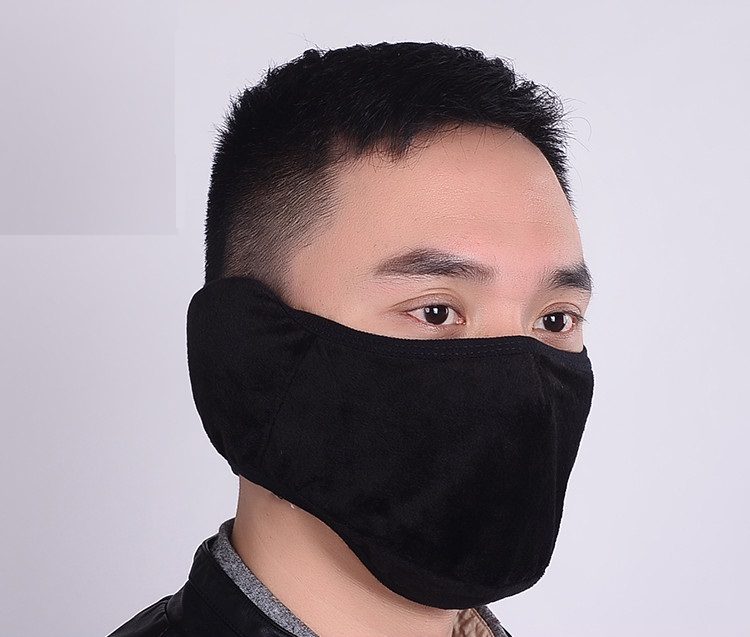face_mask: (296, 155, 597, 523)
